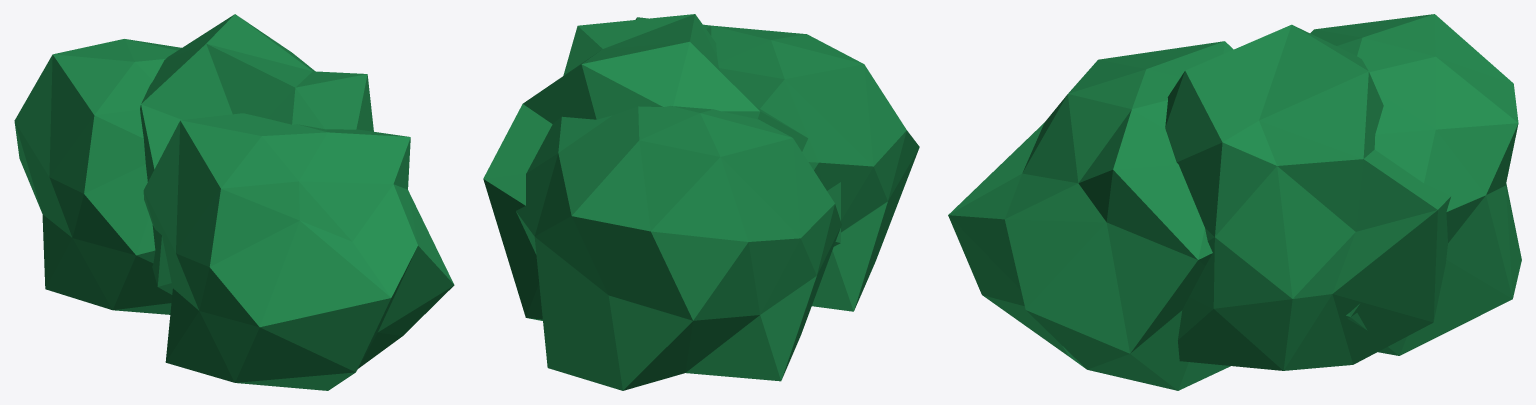
Rendered from Bush.glb.
3 renders of one model, left to right at view 1: azimuth 30°, elevation 25°; view 2: azimuth 150°, elevation 25°; view 3: azimuth 270°, elevation 25°, orthographic. The views are drawn at different scales.
Parts seen in each view (by area): view 1: Icosphere.001, Icosphere; view 2: Icosphere, Icosphere.001; view 3: Icosphere.001, Icosphere.
Boxes of the visible parts, box(x1,y1,x2,y2) form: Icosphere.001: box(140, 14, 454, 390); Icosphere: box(14, 39, 181, 314); Icosphere: box(516, 106, 841, 390); Icosphere.001: box(483, 14, 919, 320); Icosphere.001: box(948, 24, 1451, 390); Icosphere: box(1310, 14, 1521, 355).
Size of the model in its own units: 3.93 by 3.79 by 6.18.
